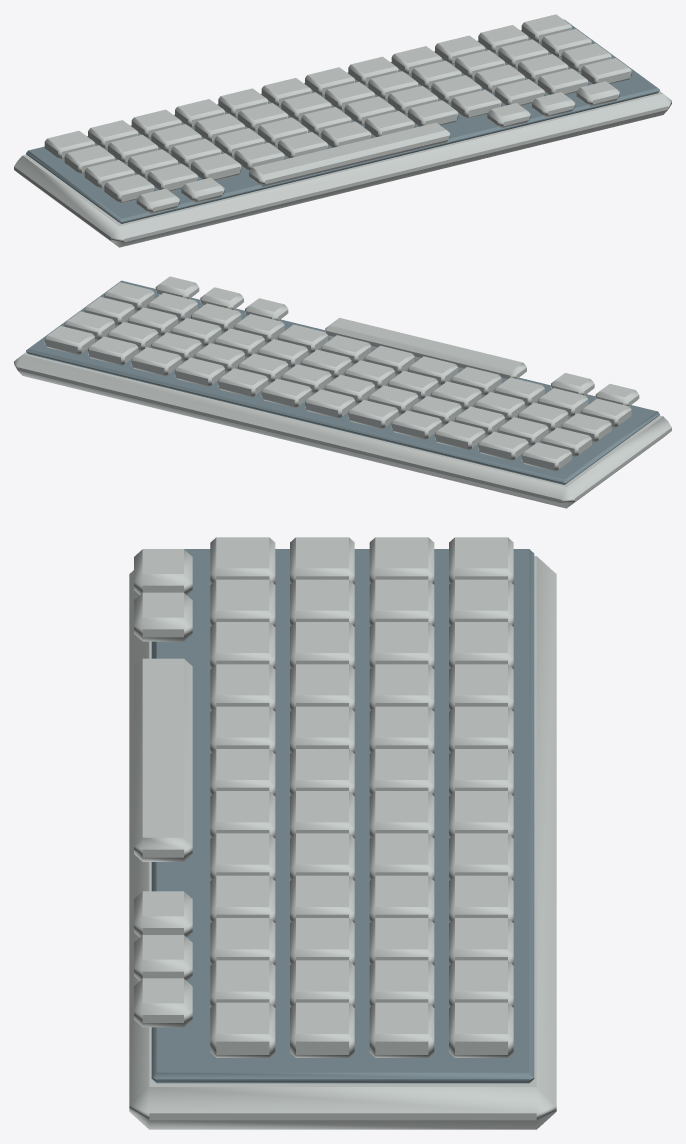
The model's file is keyboard.glb.
The picture shows the model from 3 angles, top to bottom: view 1: azimuth 30°, elevation 25°; view 2: azimuth 150°, elevation 25°; view 3: azimuth 270°, elevation 25°; orthographic projection. The views are drawn at different scales.
Visible parts, largest first — view 1: keyboard_base, keybed, space_bar, key_3_2, key_3_8, key_3_11, key_3_0, key_3_7, key_3_9, key_3_10, key_3_1, key_3_3 (+44 smaller); view 2: keyboard_base, keybed, space_bar, key_0_0, key_0_10, key_0_3, key_0_7, key_0_2, key_0_6, key_0_9, key_0_11, key_0_1 (+44 smaller); view 3: keybed, keyboard_base, space_bar, key_1_11, key_3_11, key_0_11, key_2_11, key_1_0, key_1_3, key_1_6, key_3_0, key_3_9 (+44 smaller).
Boxes of the visible parts, x1,y1,x2,y2 form: keyboard_base: [14, 91, 671, 247]; keybed: [26, 19, 659, 223]; space_bar: [249, 122, 450, 186]; key_3_2: [191, 153, 241, 180]; key_3_8: [451, 89, 501, 118]; key_3_11: [581, 58, 631, 84]; key_3_0: [104, 174, 154, 203]; key_3_7: [408, 100, 458, 126]; key_3_9: [494, 79, 544, 105]; key_3_10: [538, 68, 588, 94]; key_3_1: [147, 164, 197, 191]; key_3_3: [234, 142, 284, 171]; keyboard_base: [14, 352, 671, 508]; keybed: [26, 280, 659, 484]; space_bar: [325, 317, 526, 380]; key_0_0: [521, 442, 571, 471]; key_0_10: [88, 336, 138, 365]; key_0_3: [391, 410, 441, 439]; key_0_7: [218, 368, 268, 397]; key_0_2: [435, 421, 485, 450]; key_0_6: [261, 379, 311, 407]; key_0_9: [131, 347, 181, 376]; key_0_11: [44, 326, 94, 355]; key_0_1: [478, 431, 528, 460]; keybed: [151, 549, 534, 1083]; keyboard_base: [129, 556, 556, 1129]; space_bar: [134, 658, 192, 861]; key_1_11: [369, 1002, 434, 1057]; key_3_11: [210, 1002, 275, 1057]; key_0_11: [449, 1002, 513, 1057]; key_2_11: [290, 1002, 354, 1057]; key_1_0: [369, 537, 434, 584]; key_1_3: [369, 664, 434, 711]; key_1_6: [369, 791, 434, 838]; key_3_0: [210, 537, 275, 584]; key_3_9: [210, 918, 275, 965].
Size of the model in its own units: 0.44 by 0.0295 by 0.145.
